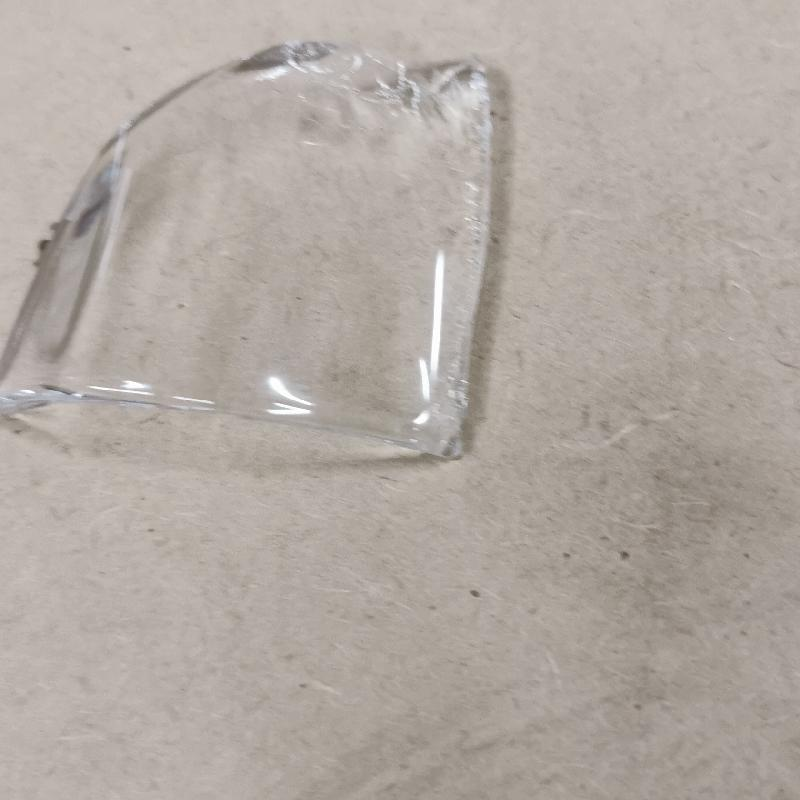glass: (0, 42, 499, 461)
